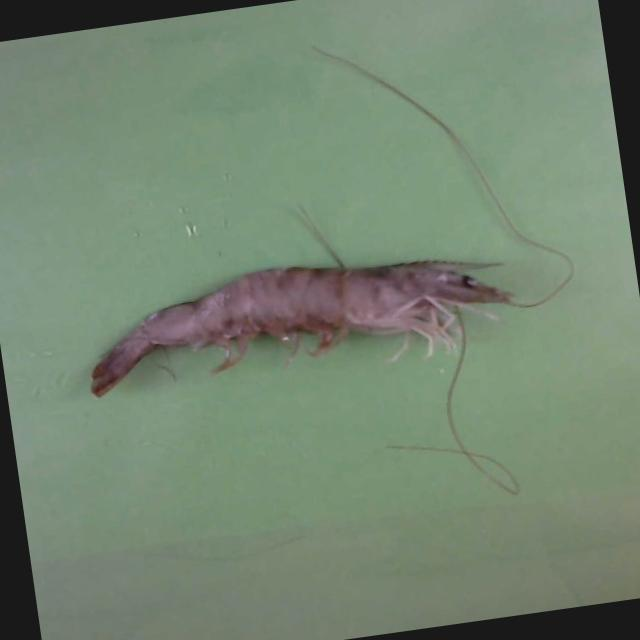shrimp: (91, 261, 512, 397)
